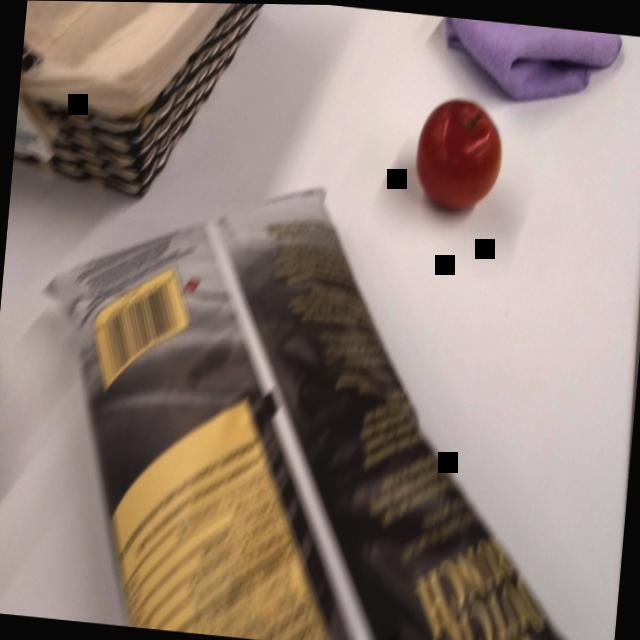apple: (407, 90, 510, 225)
